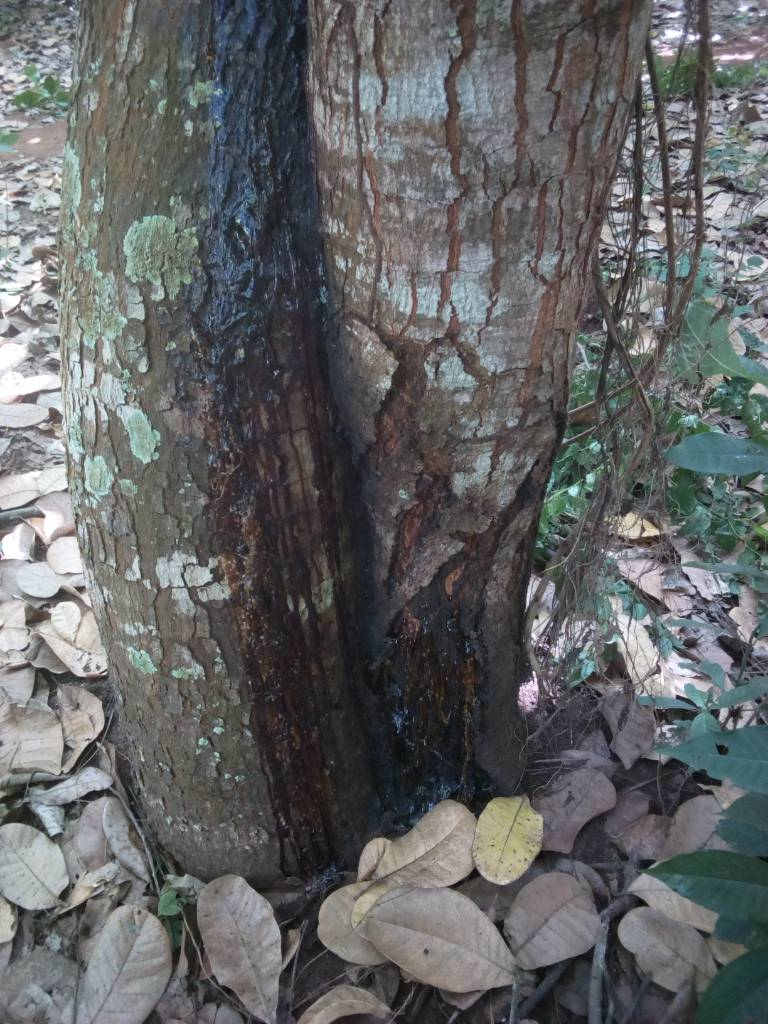Gommose: (211, 5, 361, 878), (383, 417, 504, 810)
